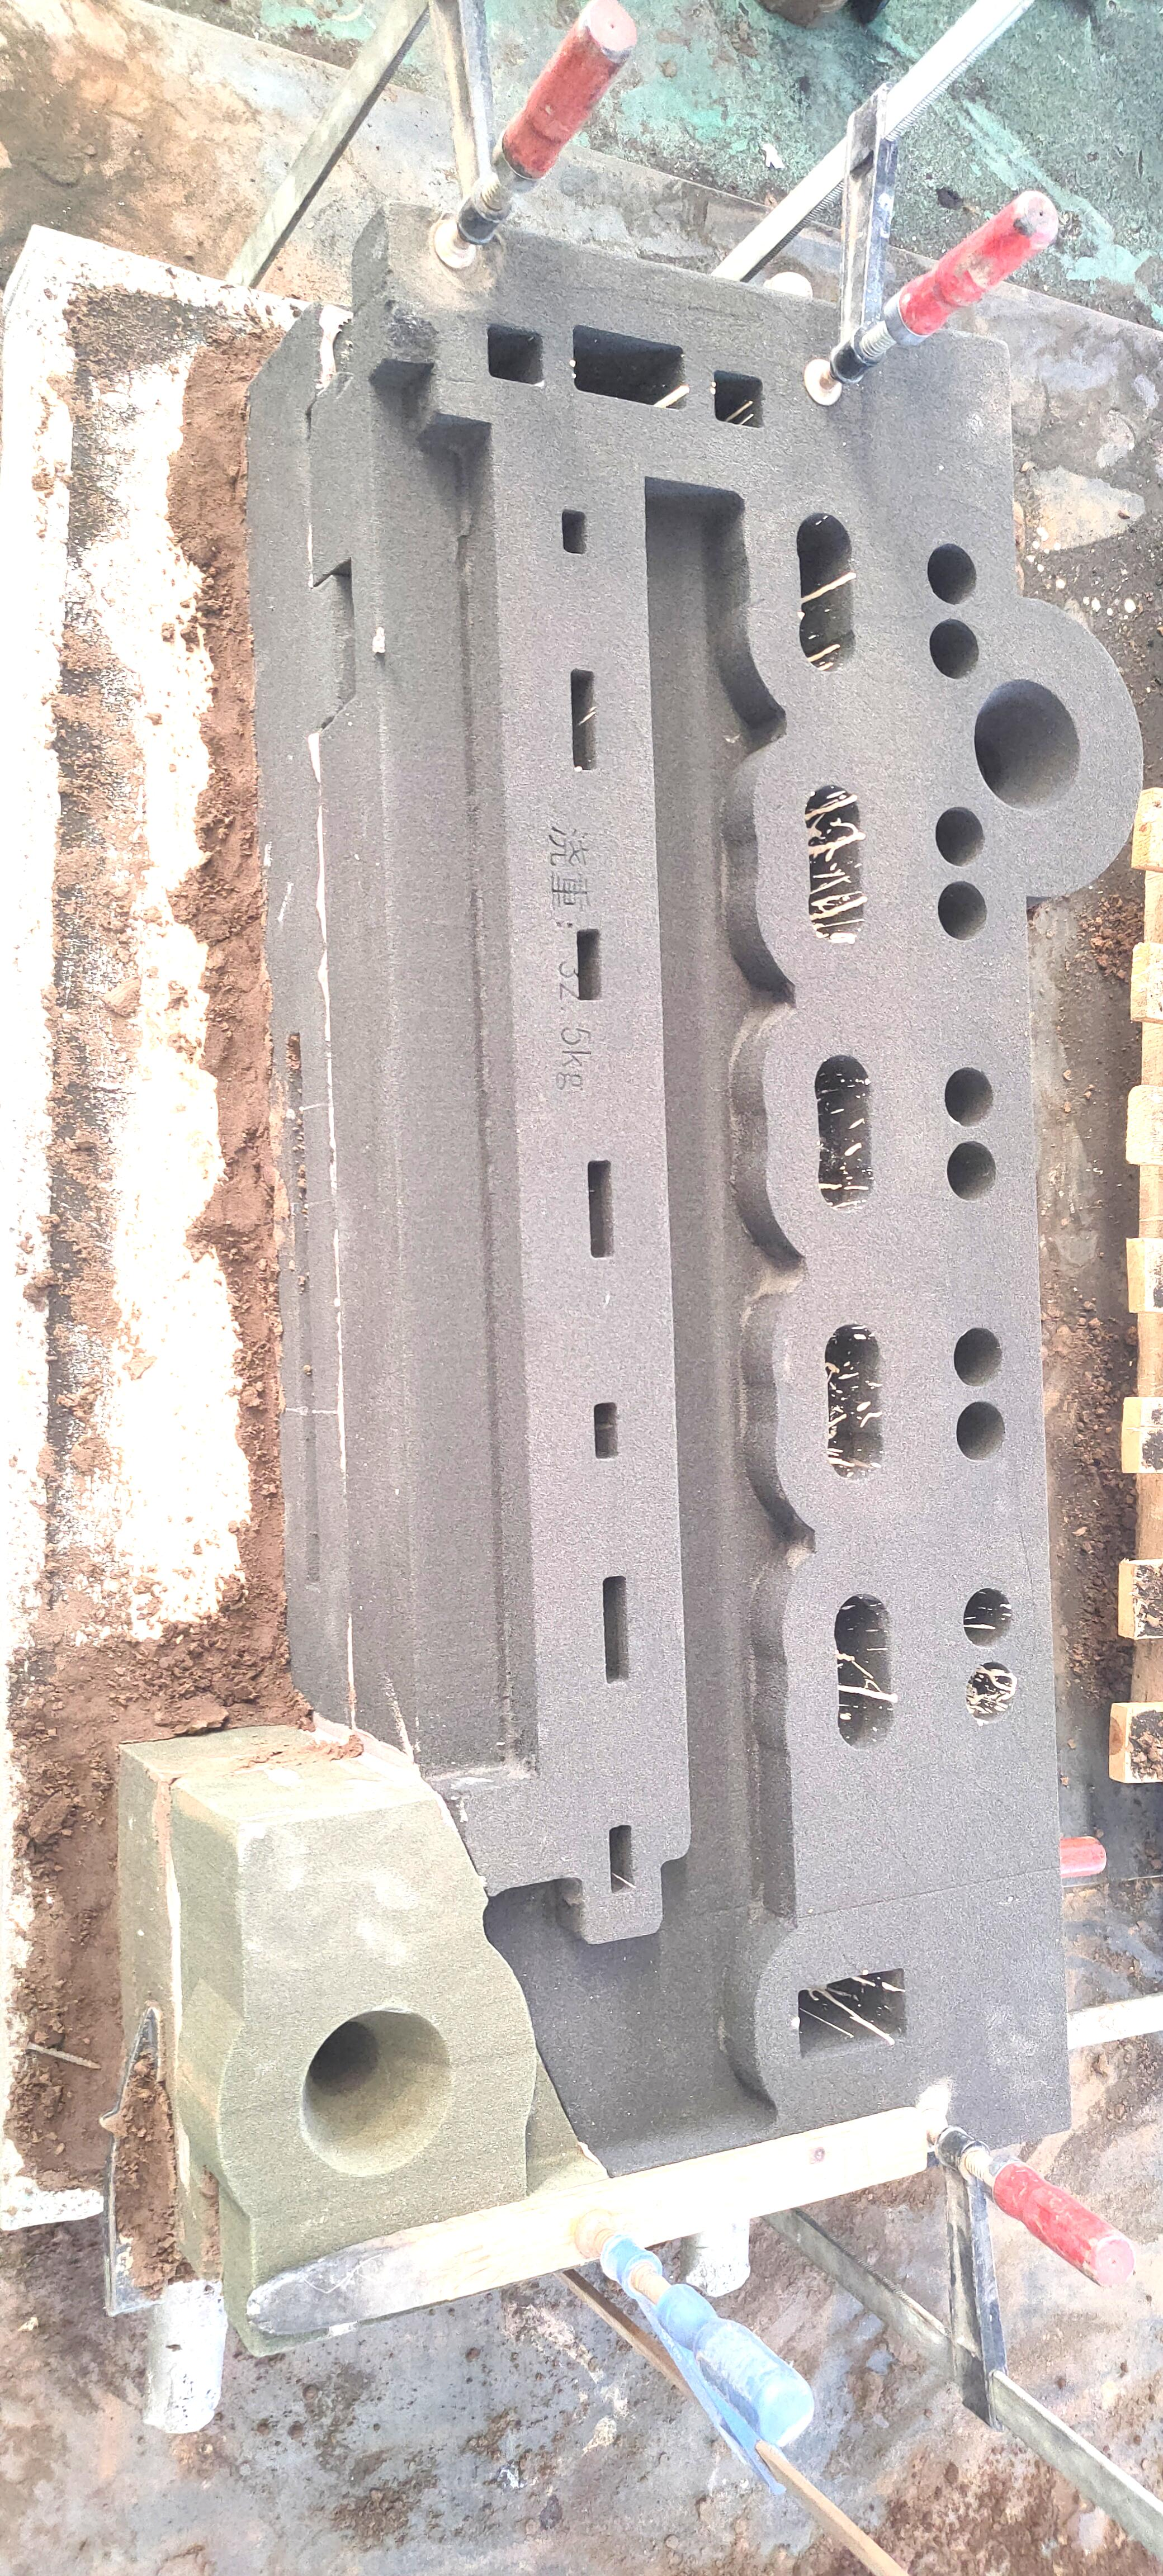pouring hole: (299, 2009, 452, 2177), (974, 678, 1079, 813)
